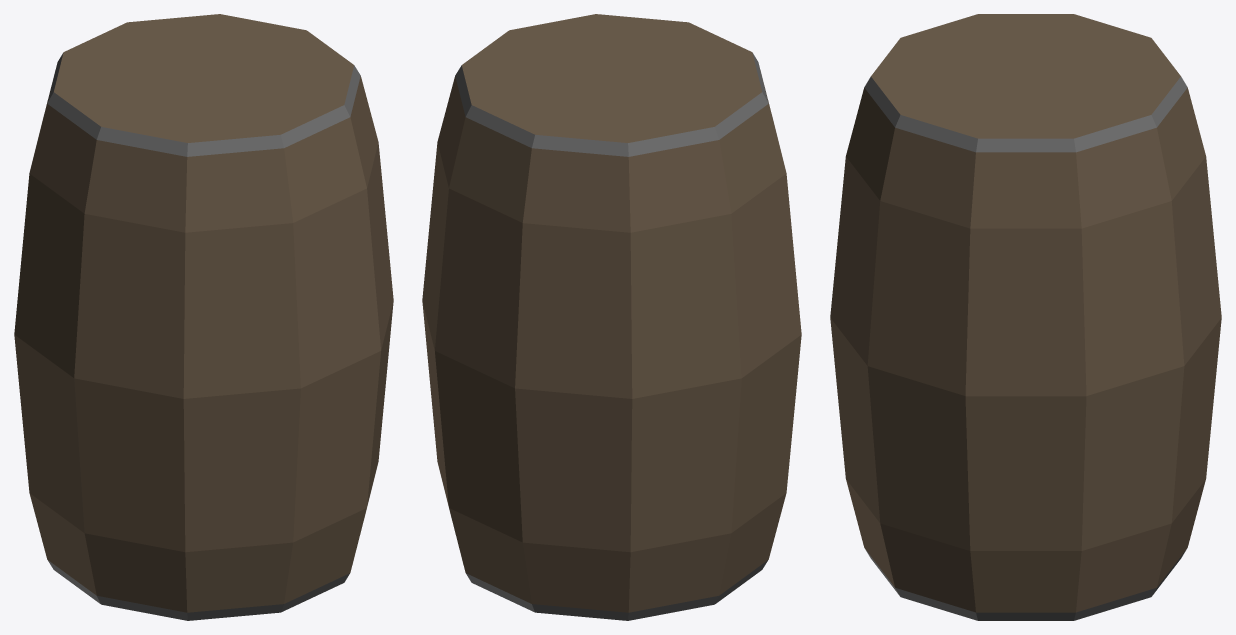
File: Barrel.fbx
3 renders of one model, left to right at view 1: azimuth 30°, elevation 25°; view 2: azimuth 150°, elevation 25°; view 3: azimuth 270°, elevation 25°, orthographic.
Parts seen in each view (by area): view 1: Barrel; view 2: Barrel; view 3: Barrel.
Boxes of the visible parts, bbox=[...] form: Barrel: bbox=[14, 14, 393, 620]; Barrel: bbox=[422, 14, 801, 620]; Barrel: bbox=[830, 14, 1221, 620].
Size of the model in its own units: 115 by 164 by 121.
